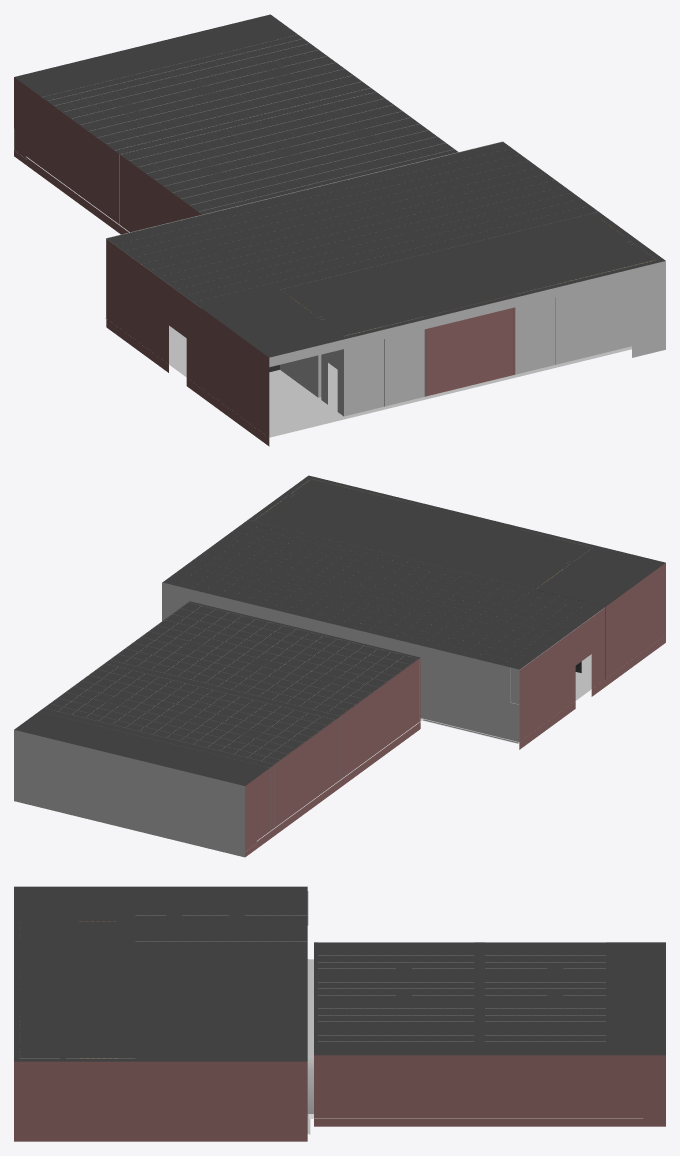
Rendered from Room.fbx.
The picture shows the model from 3 angles, top to bottom: view 1: azimuth 30°, elevation 25°; view 2: azimuth 150°, elevation 25°; view 3: azimuth 270°, elevation 25°; orthographic projection. The views are drawn at different scales.
Parts seen in each view (by area): view 1: Walls, Floor_1, Ceiling_1; view 2: Walls, Column_3, Ceiling_1, Floor_1; view 3: Walls, Ceiling_1, Column_3.
Boxes of the visible parts, x1,y1,x2,y2 form: Walls: (14, 14, 665, 446); Floor_1: (105, 318, 631, 437); Ceiling_1: (52, 40, 477, 308); Walls: (14, 475, 665, 857); Column_3: (162, 582, 519, 741); Ceiling_1: (50, 527, 604, 761); Floor_1: (420, 654, 591, 743); Walls: (14, 886, 665, 1141); Ceiling_1: (135, 915, 605, 1041); Column_3: (307, 959, 313, 1113).
Bounding box in the file's own units: 2204 × 472 × 3466.
